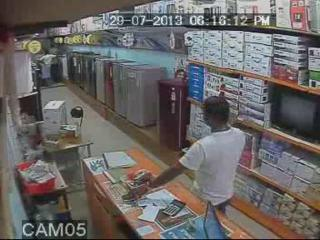shoplifting: (142, 96, 246, 236)
